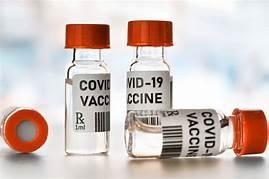Syringe: (122, 106, 269, 161), (56, 19, 112, 158), (122, 13, 182, 105)
